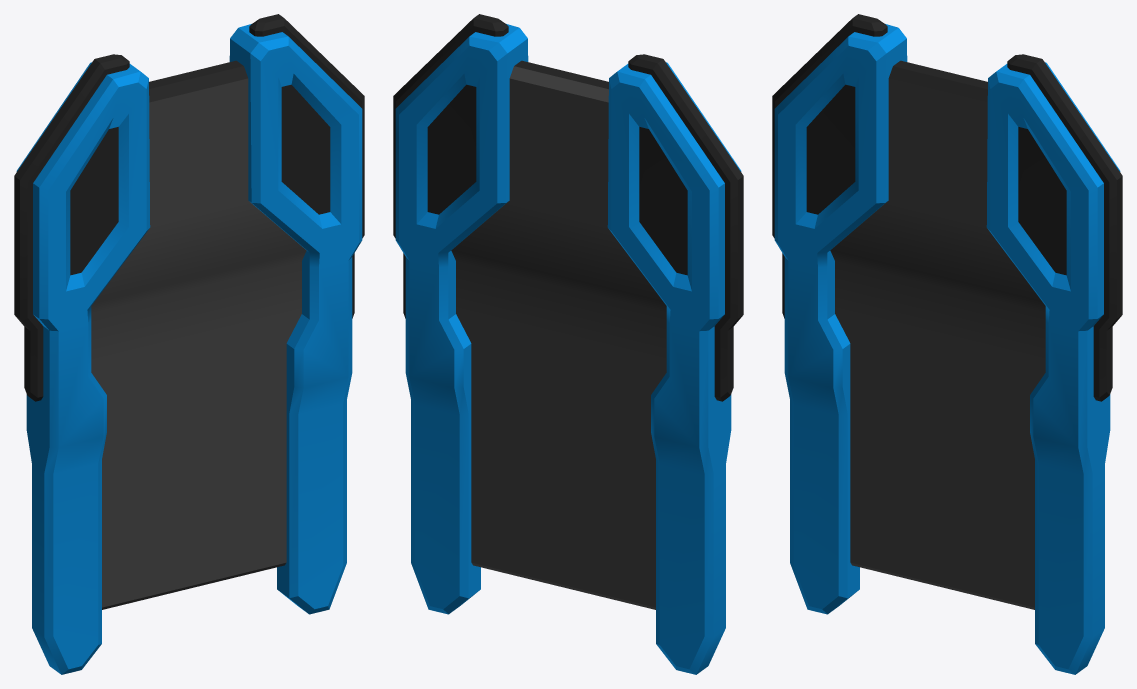
File: Keycard_Blue.fbx
3 renders of one model, left to right at view 1: azimuth 30°, elevation 25°; view 2: azimuth 150°, elevation 25°; view 3: azimuth 330°, elevation 25°, orthographic.
Visible parts, largest first — view 1: pCube1; view 2: pCube1; view 3: pCube1.
Part boxes in pixels (x1,y1,x2,y2): pCube1: (14, 14, 364, 674); pCube1: (393, 14, 743, 674); pCube1: (772, 14, 1122, 674).
Size of the model in its own units: 53.92 by 89.55 by 7.66.
